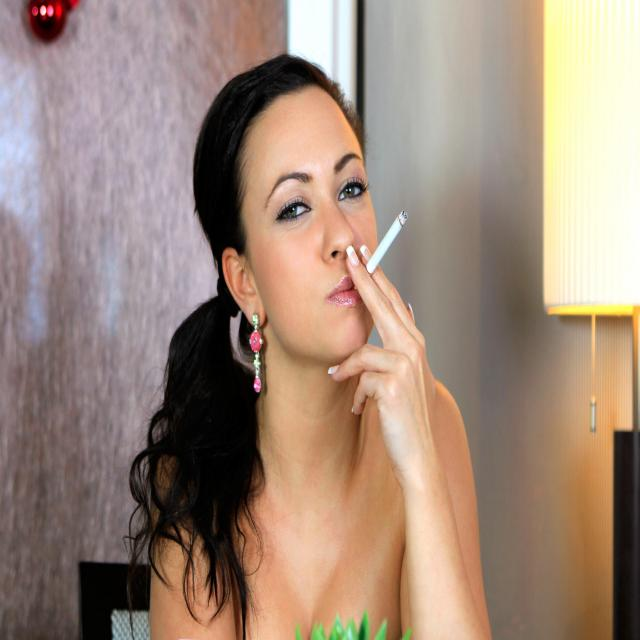smoke: (367, 208, 410, 275)
